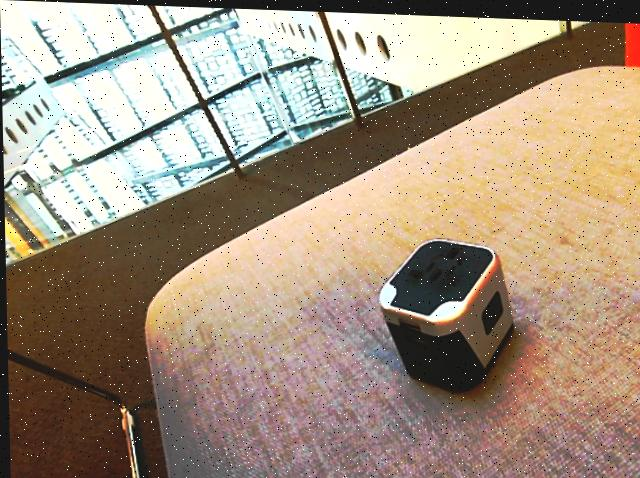adapter: (375, 233, 513, 391)
